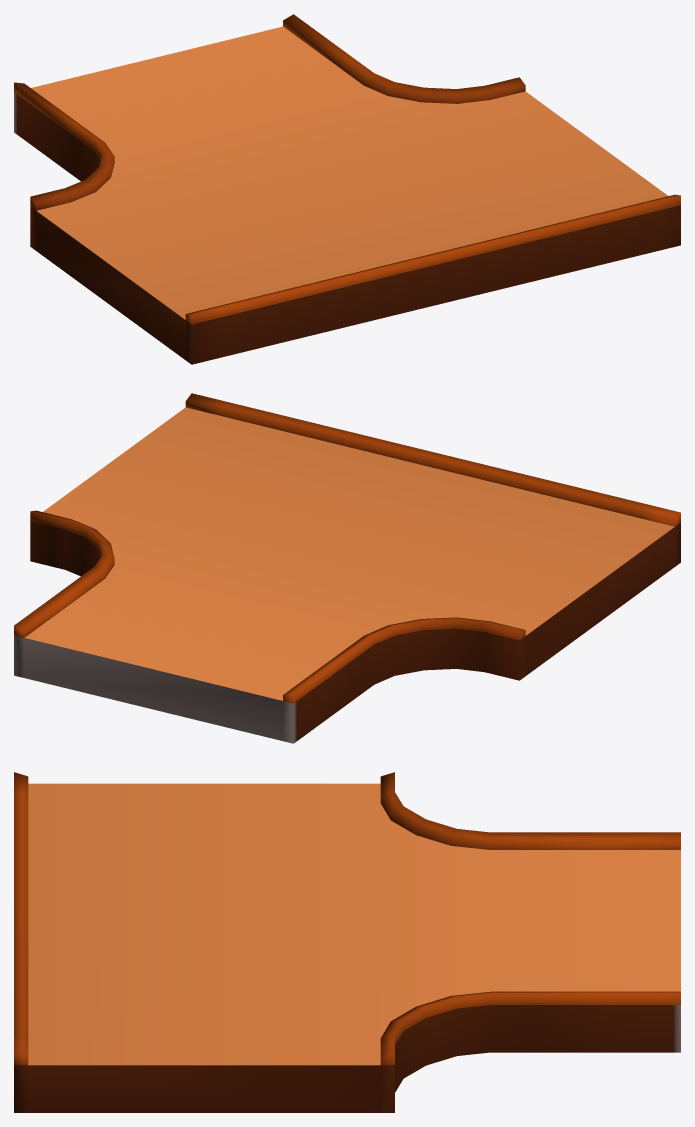
The model's file is Path_CollegeEntrance.fbx.
3 renders of one model, top to bottom at view 1: azimuth 30°, elevation 25°; view 2: azimuth 150°, elevation 25°; view 3: azimuth 270°, elevation 25°, orthographic. The views are drawn at different scales.
Visible parts, largest first — view 1: Path_CollegeEntrance; view 2: Path_CollegeEntrance; view 3: Path_CollegeEntrance.
Part boxes in pixels (x1,y1,x2,y2): Path_CollegeEntrance: (14, 14, 680, 364); Path_CollegeEntrance: (14, 393, 680, 743); Path_CollegeEntrance: (14, 772, 680, 1112).
Bounding box in the file's own units: 700 × 68.33 × 700.
1 material, 1 textured.
